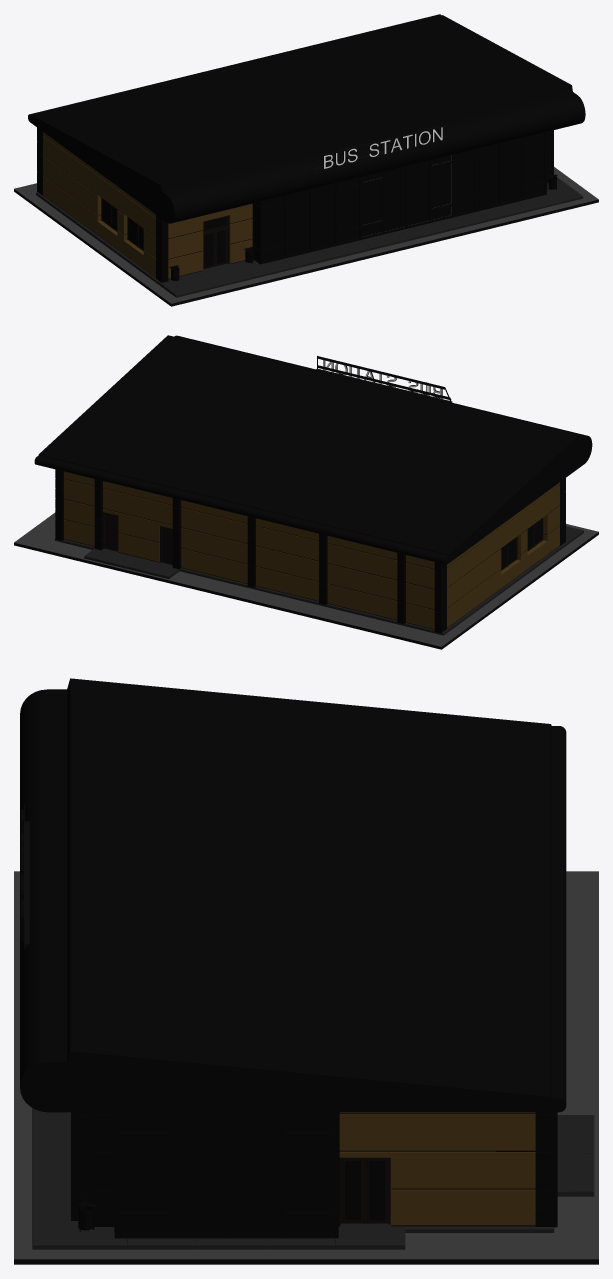
The model's file is bus_station_FBX.FBX.
The picture shows the model from 3 angles, top to bottom: view 1: azimuth 30°, elevation 25°; view 2: azimuth 150°, elevation 25°; view 3: azimuth 270°, elevation 25°; orthographic projection. The views are drawn at different scales.
Visible parts, largest first — view 1: Line002, Line009, Line001, Box009, Plane011, Plane008, Plane002, Plane005, Box017, PivotDoor001, Text003, Box008 (+3 smaller); view 2: Line002, Line001, Plane011, Box009, Bus_station, Box017, Box013, Box011, Box018, Box021, Box012, Box020 (+4 smaller); view 3: Line002, Plane011, Line009, Line001, Box009, Plane016, PivotDoor005, Box012, Box007, Bus_station, Box017.
Part boxes in pixels (x1=…): Line002: x1=28, y1=14, x2=585, y2=223; Line009: x1=254, y1=130, x2=551, y2=263; Line001: x1=43, y1=132, x2=252, y2=278; Box009: x1=36, y1=177, x2=583, y2=297; Plane011: x1=14, y1=167, x2=598, y2=306; Plane008: x1=453, y1=132, x2=546, y2=217; Plane002: x1=261, y1=177, x2=361, y2=264; Plane005: x1=362, y1=155, x2=453, y2=239; Box017: x1=311, y1=123, x2=447, y2=173; PivotDoor001: x1=203, y1=226, x2=229, y2=269; Text003: x1=323, y1=126, x2=442, y2=168; Box008: x1=156, y1=215, x2=168, y2=282; Line002: x1=34, y1=335, x2=592, y2=564; Line001: x1=64, y1=471, x2=559, y2=628; Plane011: x1=14, y1=512, x2=598, y2=649; Box009: x1=55, y1=526, x2=583, y2=635; Bus_station: x1=64, y1=478, x2=559, y2=629; Box017: x1=316, y1=355, x2=452, y2=402; Box013: x1=434, y1=562, x2=446, y2=633; Box011: x1=172, y1=498, x2=181, y2=569; Box018: x1=94, y1=479, x2=103, y2=550; Box021: x1=247, y1=516, x2=256, y2=587; Box012: x1=55, y1=469, x2=63, y2=540; Box020: x1=319, y1=534, x2=327, y2=605; Line002: x1=20, y1=678, x2=566, y2=1112; Plane011: x1=14, y1=871, x2=598, y2=1264; Line009: x1=75, y1=1112, x2=333, y2=1233; Line001: x1=339, y1=1112, x2=536, y2=1225; Box009: x1=32, y1=1108, x2=594, y2=1249; Plane016: x1=115, y1=1112, x2=338, y2=1238; PivotDoor005: x1=340, y1=1157, x2=390, y2=1224; Box012: x1=535, y1=1112, x2=557, y2=1227; Box007: x1=92, y1=1112, x2=114, y2=1226; Bus_station: x1=339, y1=1113, x2=535, y2=1226; Box017: x1=24, y1=804, x2=29, y2=949.
Size of the model in its own units: 25276 by 6369 by 16101.
